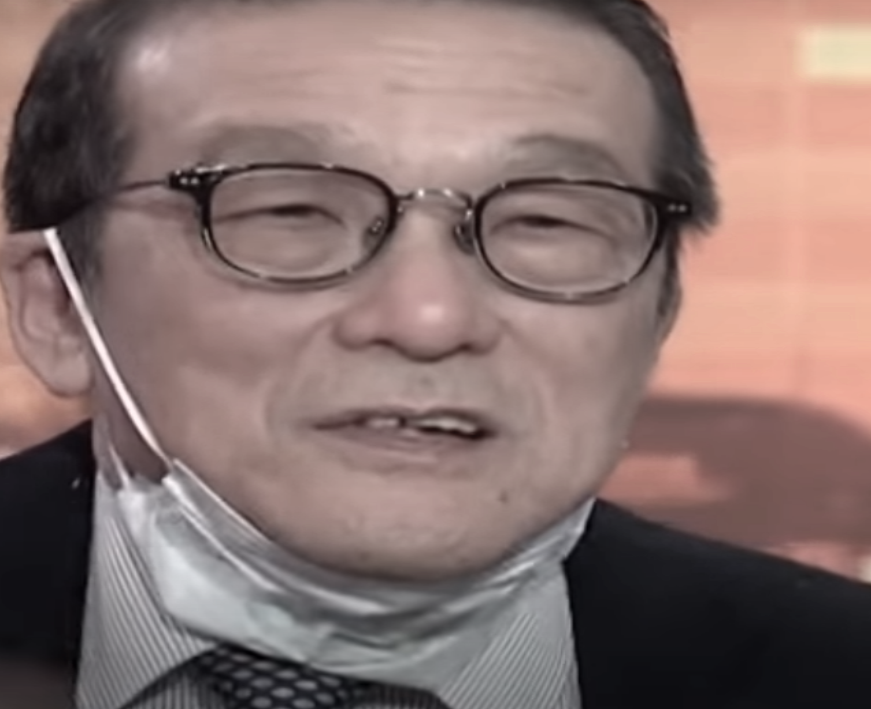mask_weared_incorrect: (1, 6, 714, 695)
